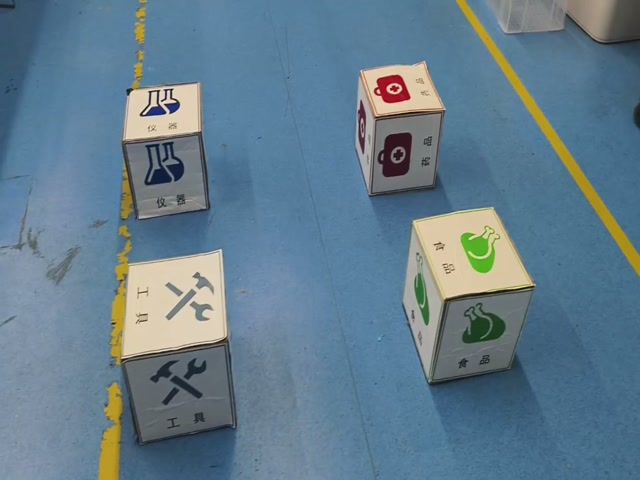Cube_food: (409, 202, 535, 301)
Cube_ins: (119, 84, 204, 141)
Cube_medicine: (360, 61, 445, 118)
Cube_tool: (120, 252, 228, 361)
